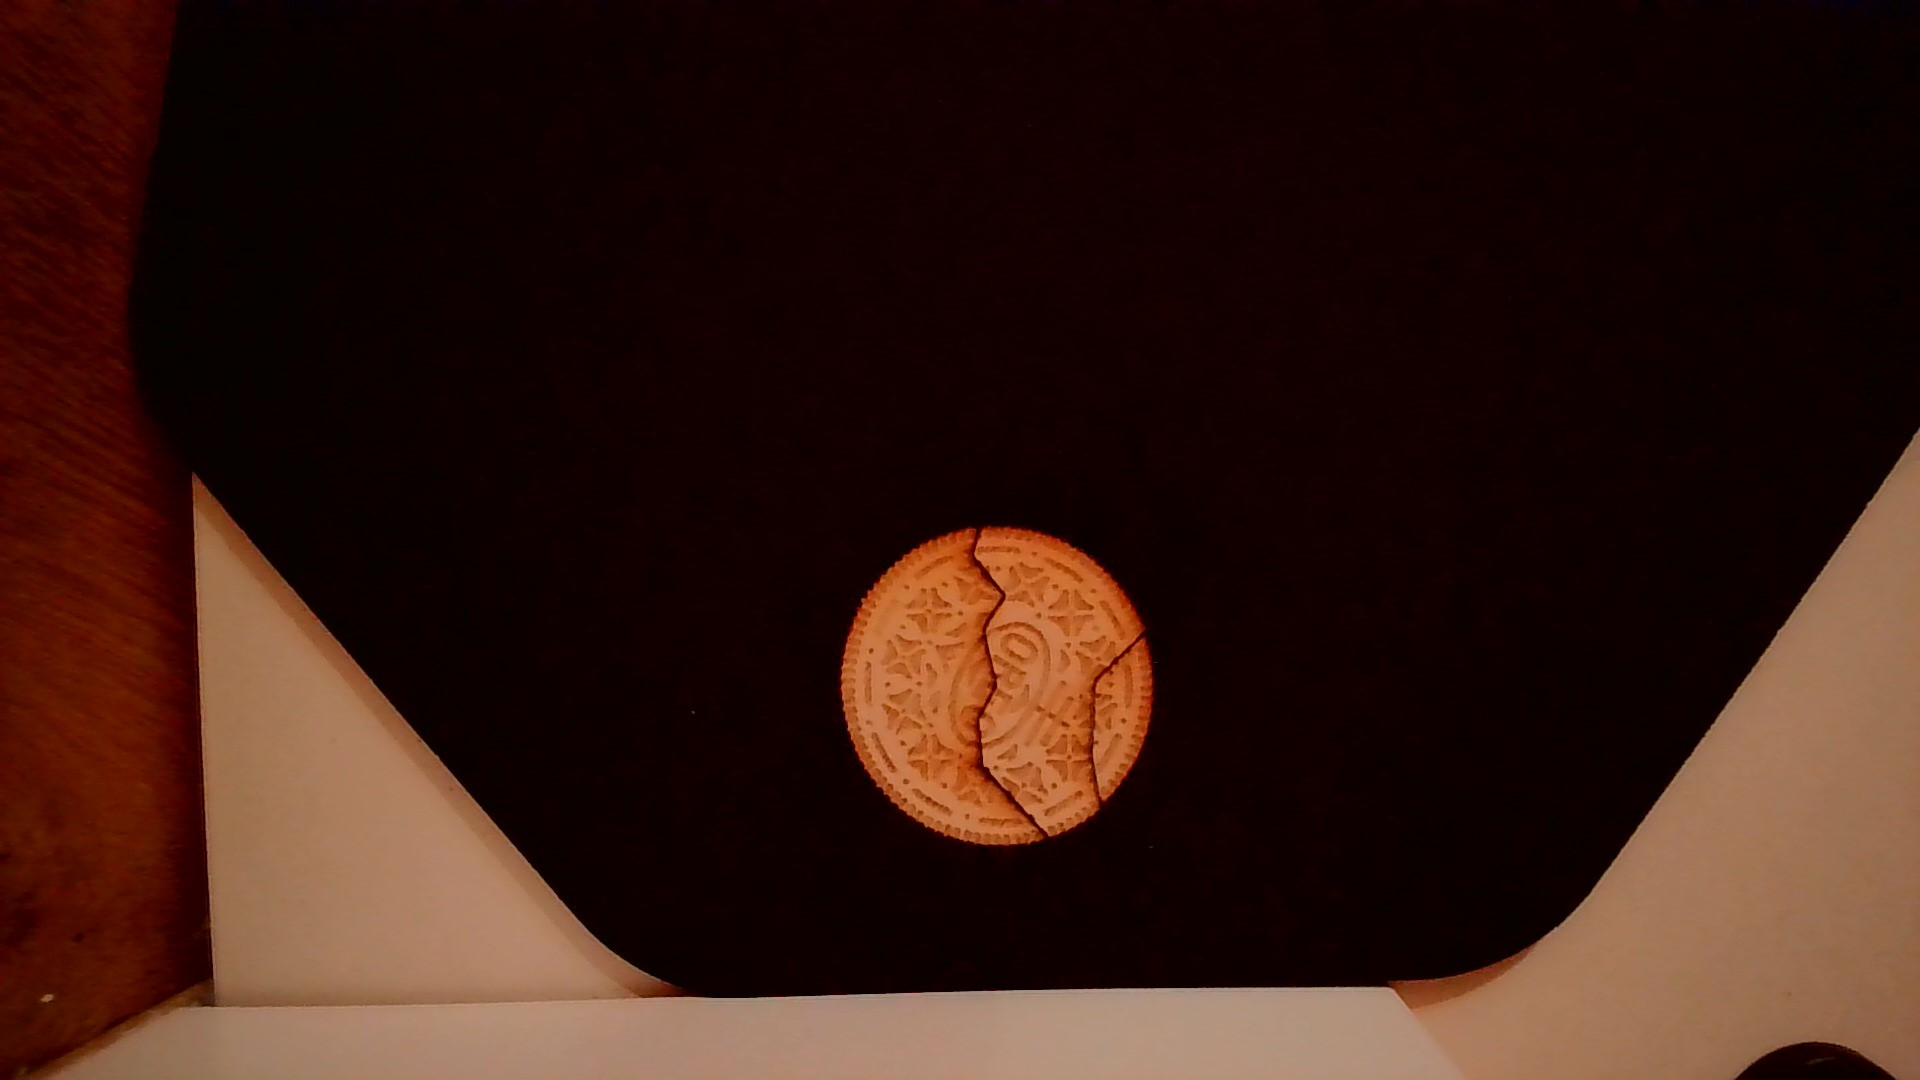Fissure: (953, 530, 1056, 839), (1077, 628, 1139, 812)
Oréo: (827, 520, 1156, 853)
